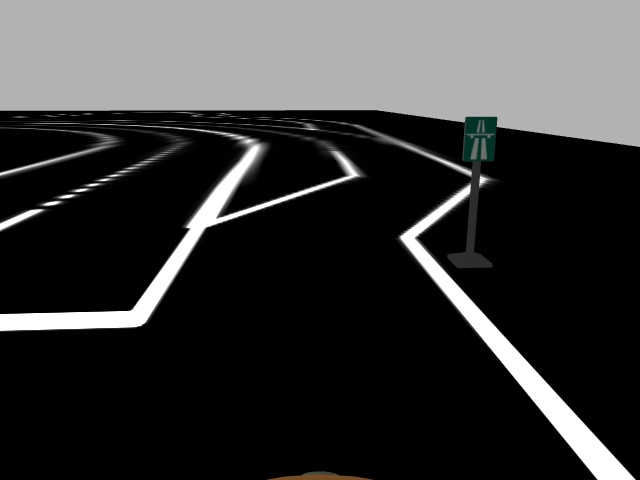enter_highway: (460, 116, 500, 163)
